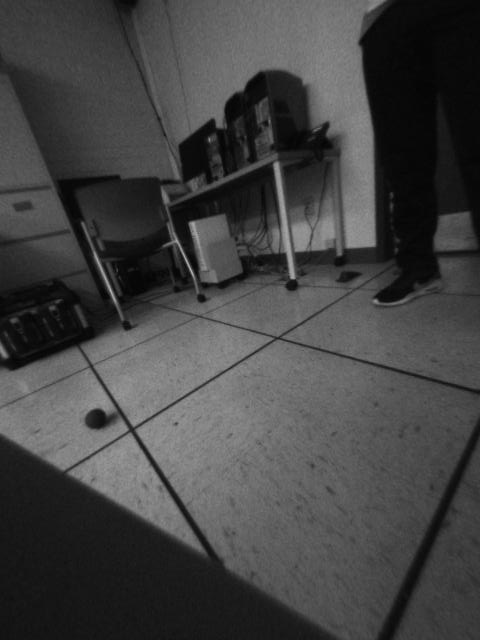dogtoy: (80, 403, 113, 435)
